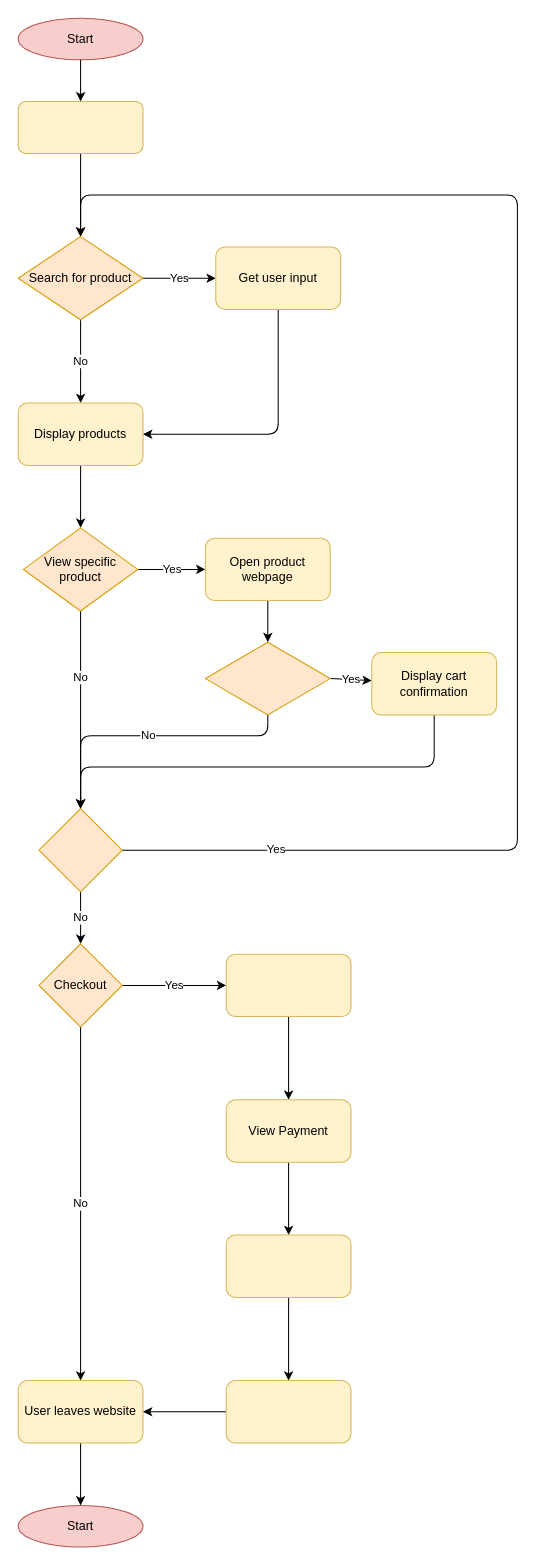
Image size: 544x1565. Some labels were removed from this diagram. The box of each missing label's shape, as (x1, y1, x2, y2) in pixels:
Add to cart: (204, 641, 330, 715)
Continue shopping: (38, 808, 122, 892)
Display order confirmation: (225, 1380, 351, 1443)
User enters website: (17, 100, 143, 153)
User inputs payment information: (225, 1234, 351, 1297)
View Cart: (225, 953, 351, 1017)
